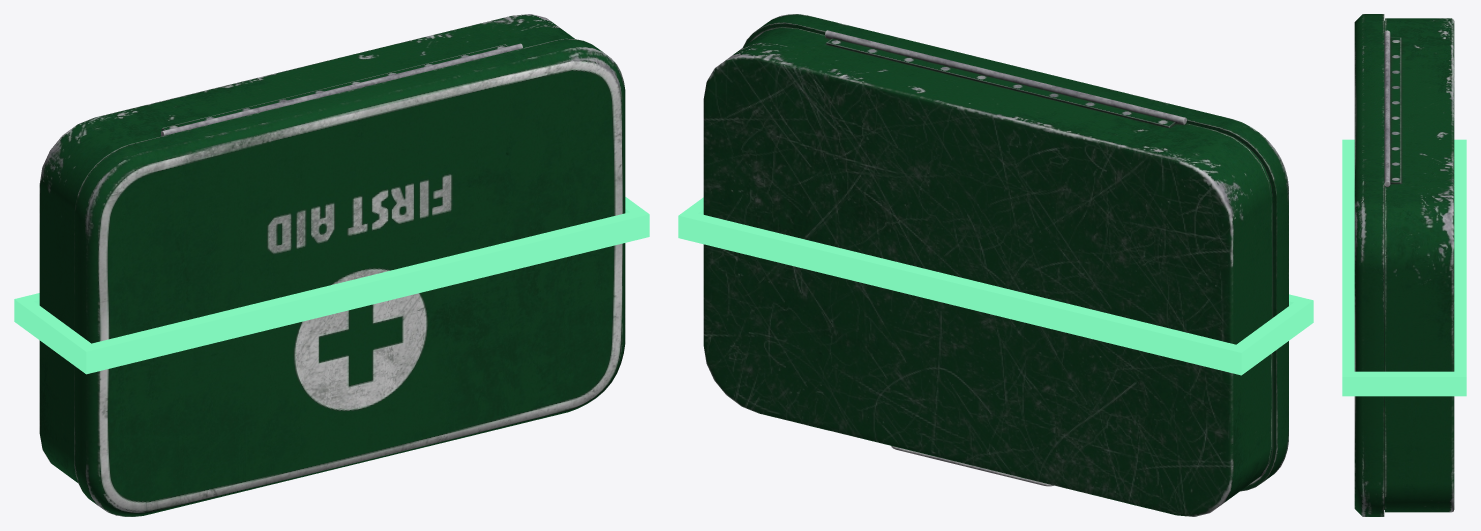
File: kit.glb
3 views of the same model, side by side, from view 1: azimuth 30°, elevation 25°; view 2: azimuth 150°, elevation 25°; view 3: azimuth 270°, elevation 25° (orthographic). The views are drawn at different scales.
Parts seen in each view (by area): view 1: KitProp, KitNeon; view 2: KitProp, KitNeon; view 3: KitProp, KitNeon.
Part boxes in pixels (x1,y1,x2,y2): KitProp: (39, 14, 625, 516); KitNeon: (14, 197, 649, 374); KitProp: (703, 14, 1288, 516); KitNeon: (678, 197, 1313, 375); KitProp: (1354, 14, 1454, 516); KitNeon: (1342, 139, 1466, 396).
Size of the model in its own units: 0.544 by 0.3465 by 0.1205.
Materials: 2 (1 with a texture image).
